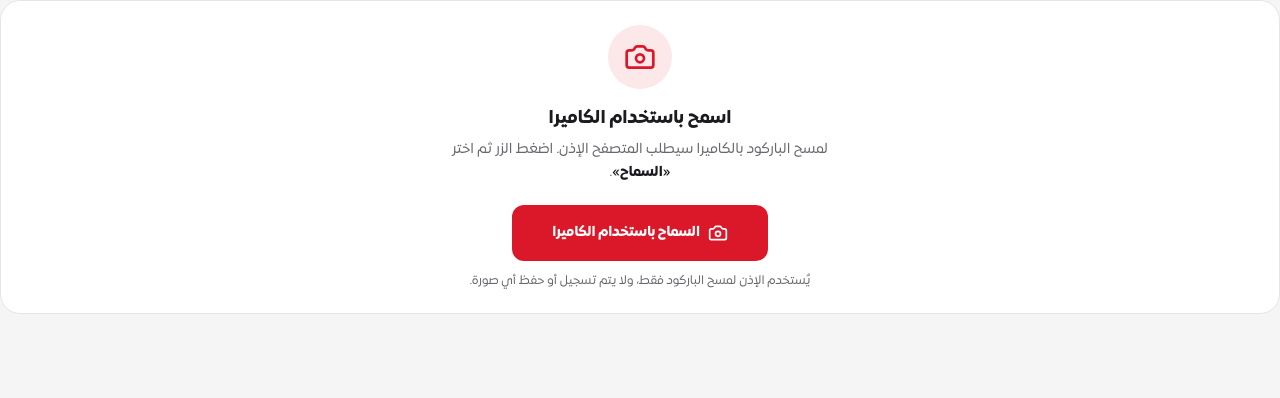
Test: CameraScanner permission flow › explains first, asks only after the button, and shows clear steps when the user refuses
Click the button "السماح باستخدام الكاميرا". click: (640, 232)
box: [512,204,768,260]
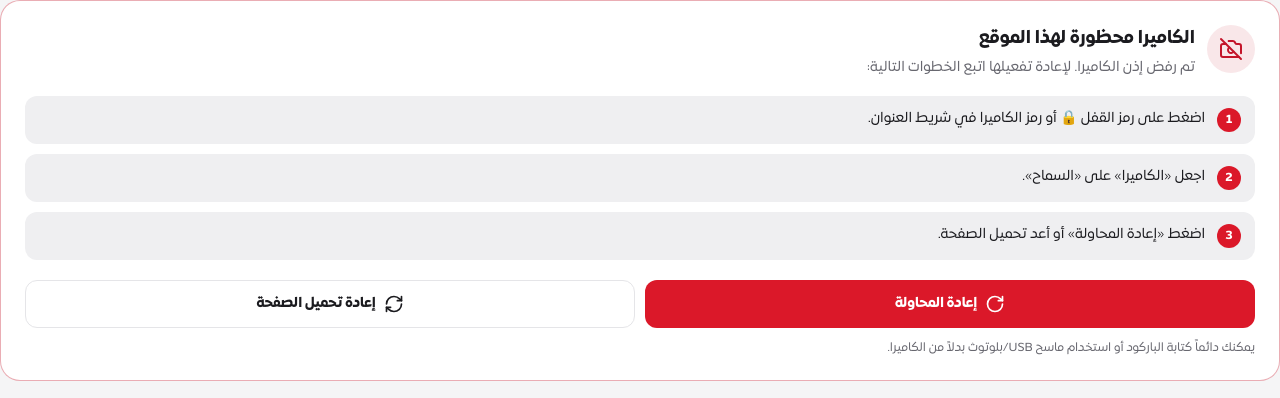
Expected: the heading "الكاميرا محظورة لهذا الموقع" is shown, [979,28,1195,49]
Expected: the button "إعادة المحاولة" is shown, [645,280,1255,328]
Expected: the button "إعادة تحميل الصفحة" is shown, [25,280,635,328]
